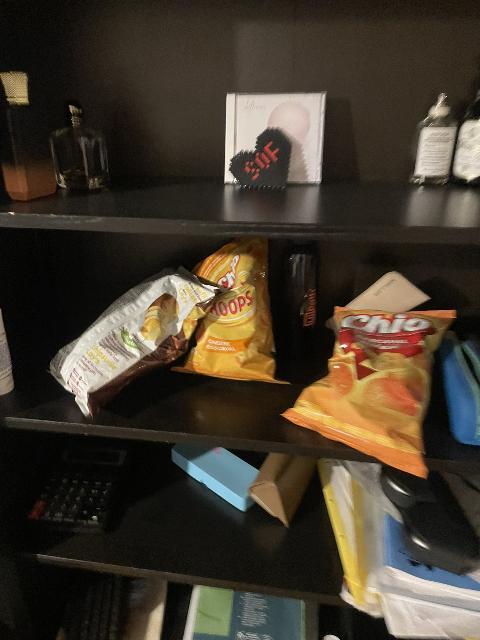Chio Cascaval 125g: (289, 309, 449, 483)
Chio Hula Hoops Cheese 70g: (172, 239, 287, 379)
Lays Beef Grilled Ribs 125g: (48, 267, 229, 416)
